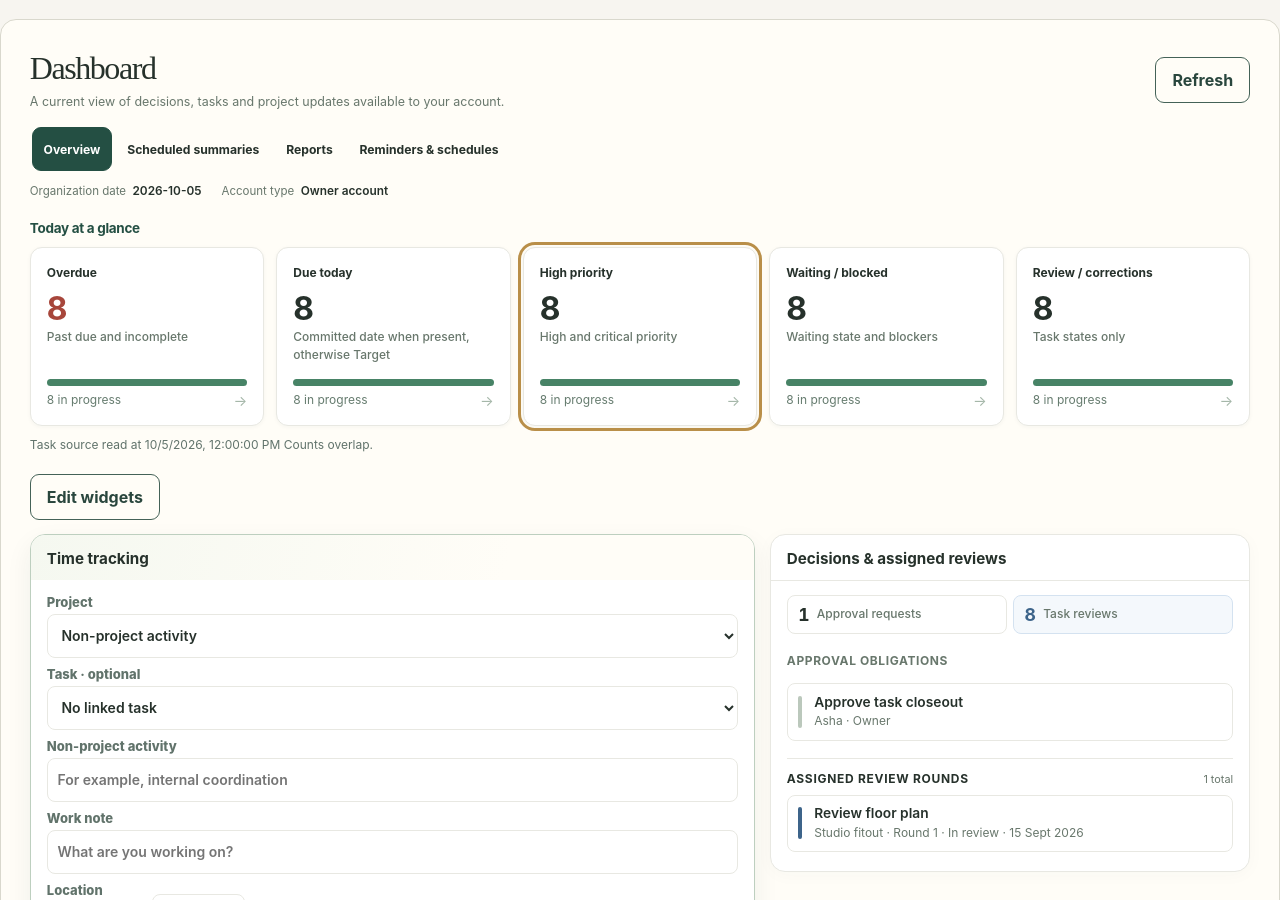
Test: DashboardWorkspace › opens every High priority source row in a contextual panel without navigating
Expected: the 3rd text "8" is shown, 540,289 -> 559,328
Click the button "High priority 8 High and critical priority 8 in progress →" at (640, 337), box 523,247 -> 757,426
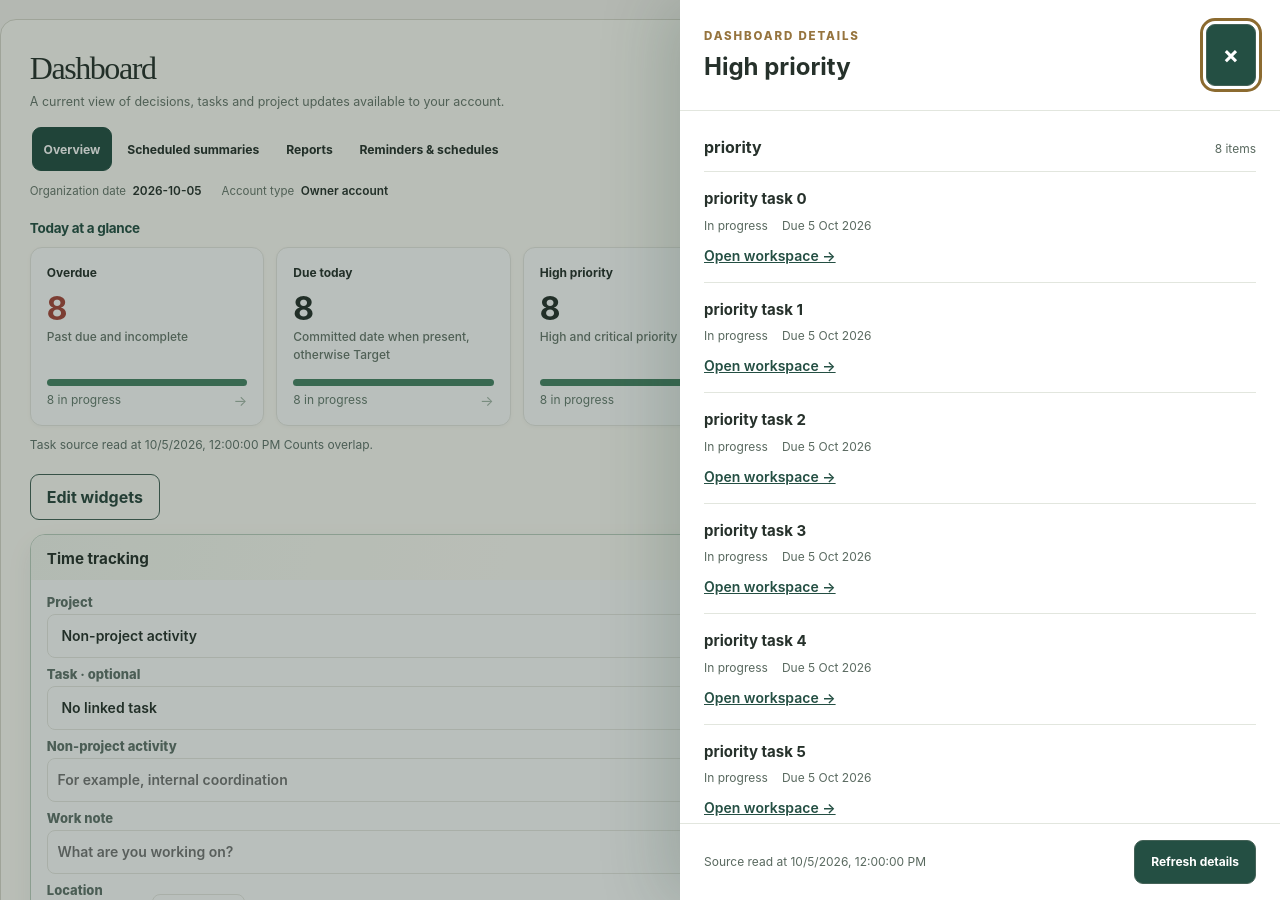
Click the button named "Close dashboard details" at (1231, 55), box 1206,24 -> 1256,86
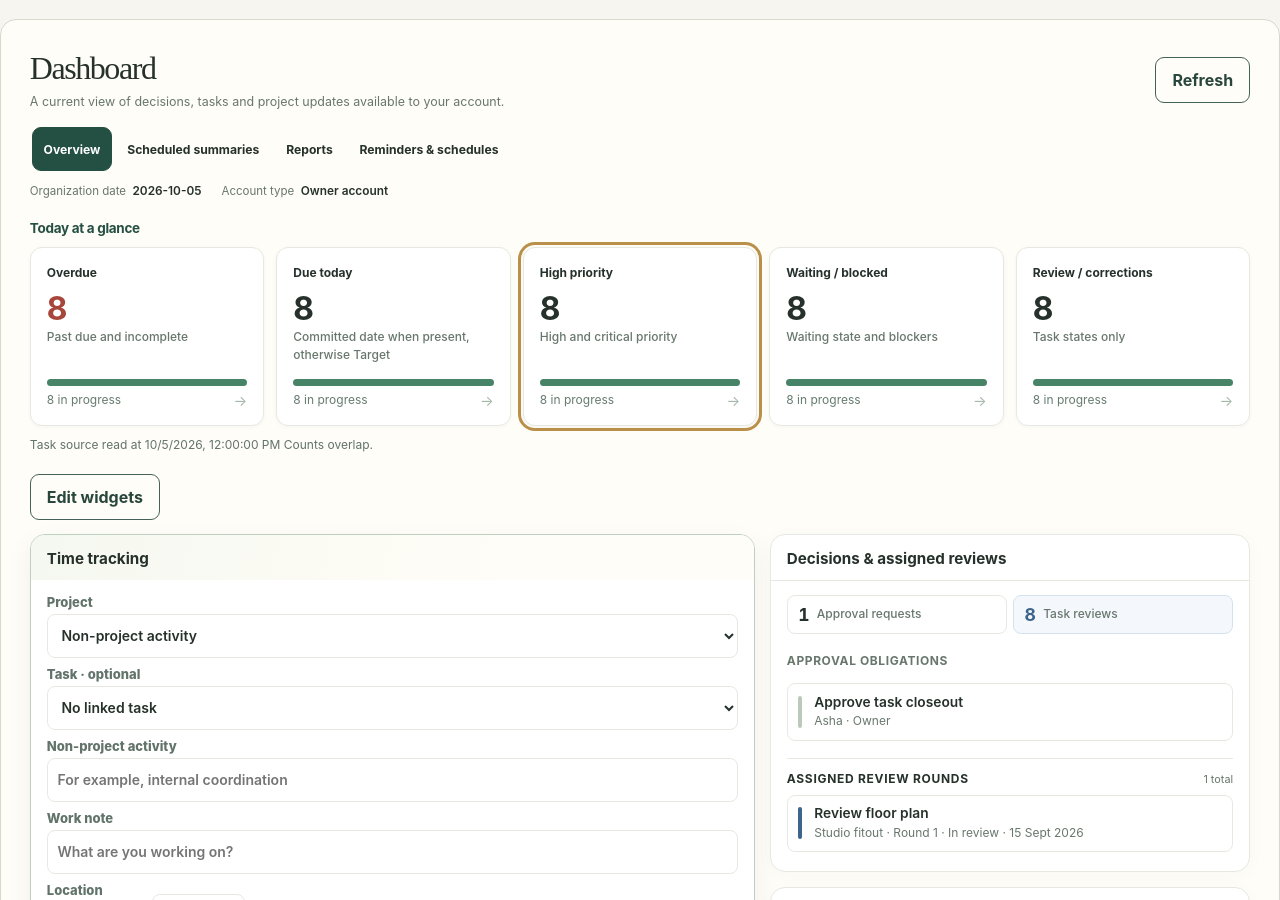
Expected: the heading "Dashboard" is shown, 30,50 -> 156,86
Now the dialog is gone
